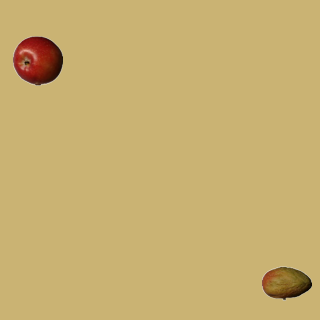Apple Braeburn: (12, 35, 62, 85)
Papaya: (261, 258, 311, 308)
